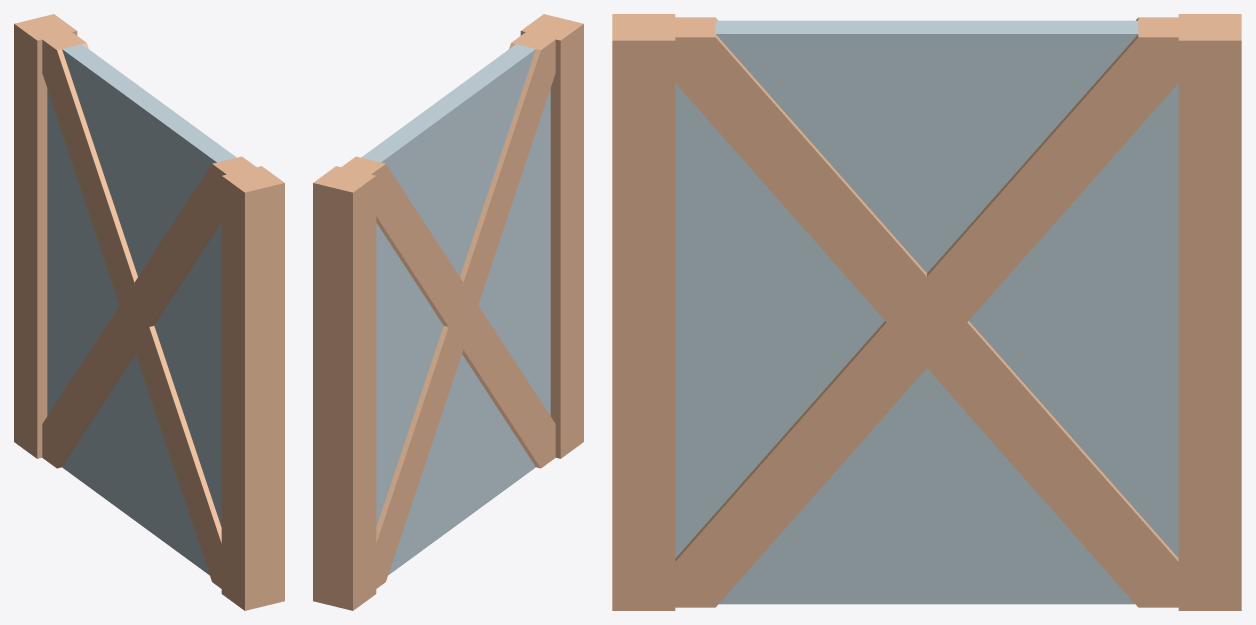
Rendered from wallDetailCross.glb.
3 renders of one model, left to right at view 1: azimuth 30°, elevation 25°; view 2: azimuth 150°, elevation 25°; view 3: azimuth 270°, elevation 25°, orthographic. The views are drawn at different scales.
Visible parts, largest first — view 1: wallDetailCross; view 2: wallDetailCross; view 3: wallDetailCross.
Part boxes in pixels (bbox=[...]): wallDetailCross: bbox=[14, 14, 284, 610]; wallDetailCross: bbox=[313, 14, 583, 610]; wallDetailCross: bbox=[612, 14, 1241, 610].
Bounding box in the file's own units: 0.1 × 1 × 1.
